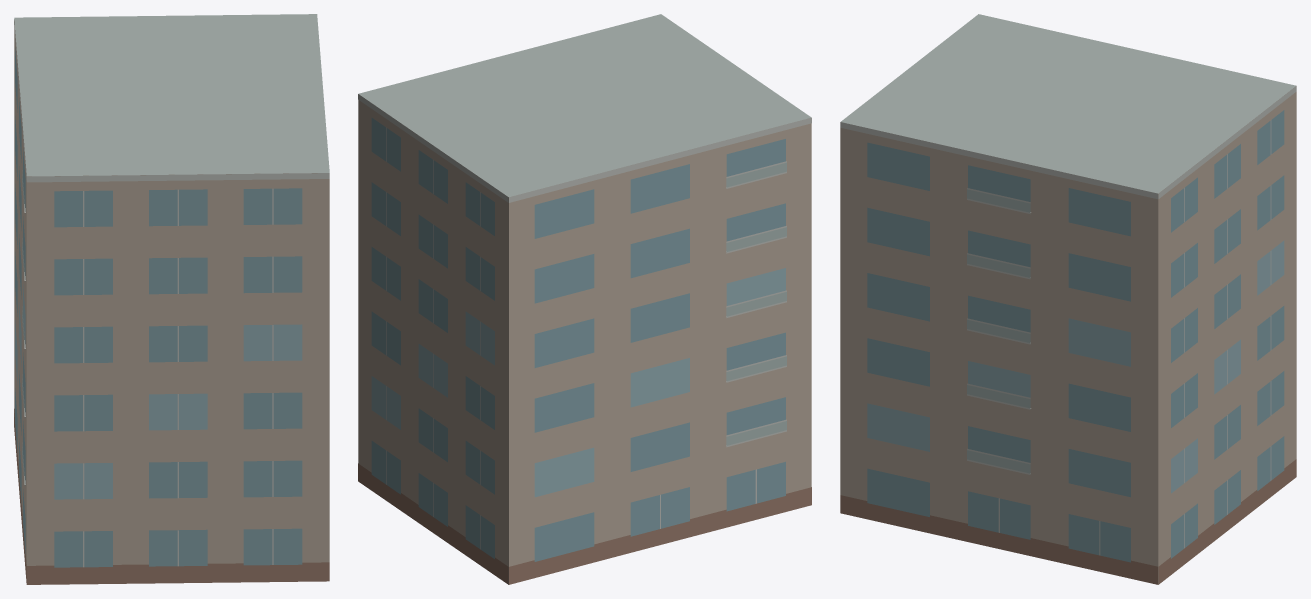
The model's file is survey-upis-33002707.glb.
3 renders of one model, left to right at view 1: azimuth 30°, elevation 25°; view 2: azimuth 150°, elevation 25°; view 3: azimuth 270°, elevation 25°, orthographic. The views are drawn at different scales.
Parts seen in each view (by area): view 1: survey-upis-33002707.tmp; view 2: survey-upis-33002707.tmp; view 3: survey-upis-33002707.tmp.
Boxes of the visible parts, x1,y1,x2,y2 form: survey-upis-33002707.tmp: (14, 14, 329, 584); survey-upis-33002707.tmp: (358, 14, 811, 584); survey-upis-33002707.tmp: (840, 14, 1296, 584).
Bounding box in the file's own units: 16.35 × 16.6 × 17.55.
